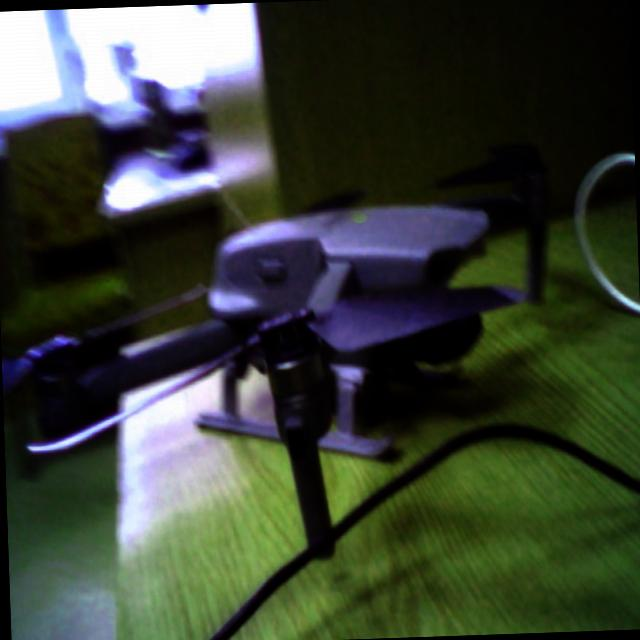drone: (0, 133, 621, 557)
